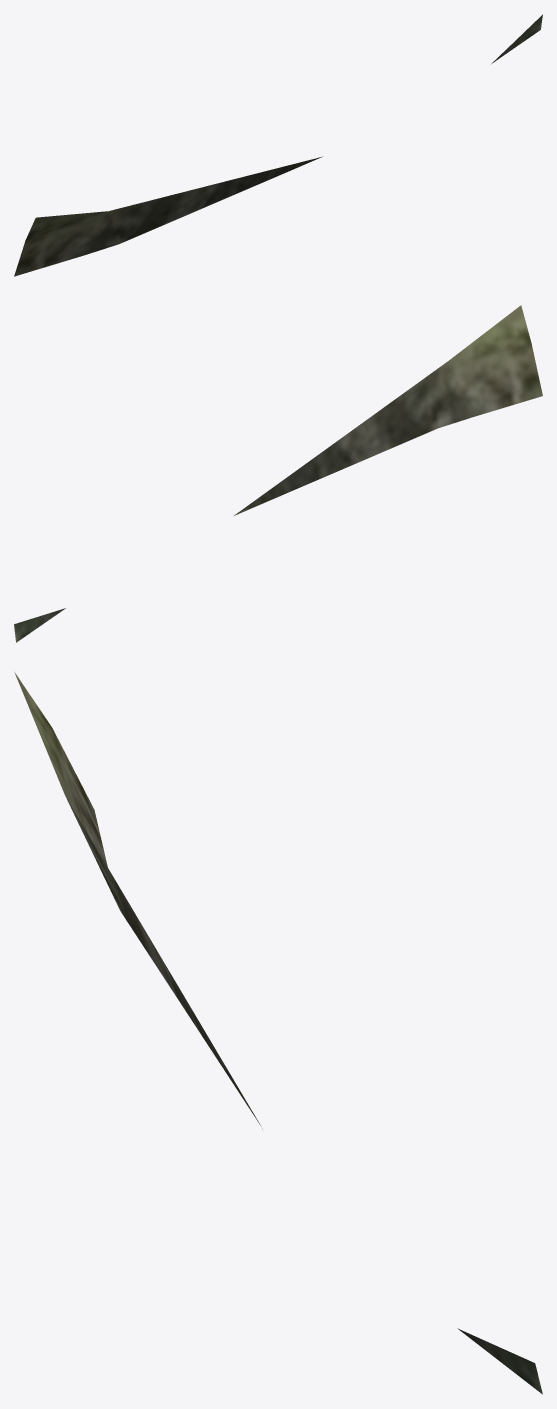
3 renders of one model, top to bottom at view 1: azimuth 30°, elevation 25°; view 2: azimuth 210°, elevation 25°; view 3: azimuth 270°, elevation 25°, orthographic. The views are drawn at different scales.
Size of the model in its own units: 5.9 by 0.6526 by 2.25.
Materials: 1 (1 with a texture image).
